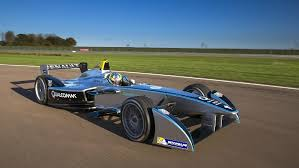FormulaOneCar: (31, 59, 248, 152)
